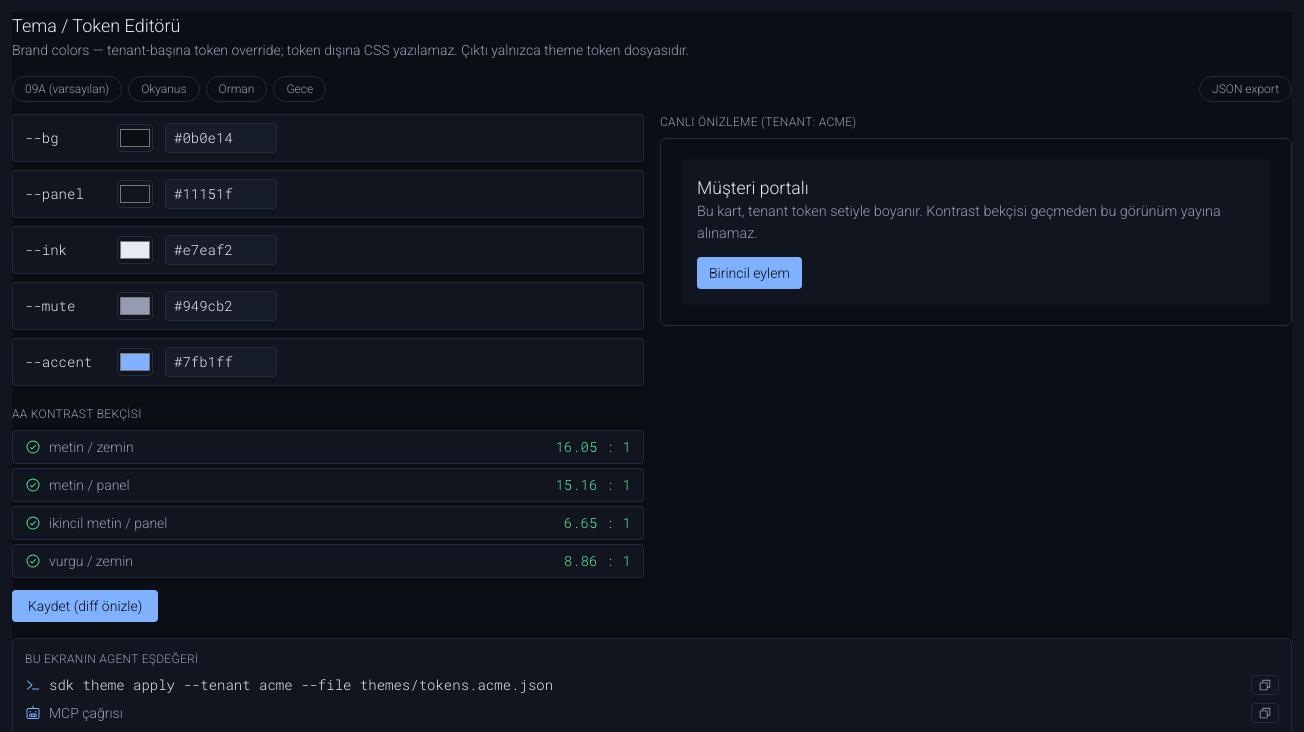
Tema — preset paletler ve export › preset uygulanınca tokenlar değişir ve AA korunur
This screenshot has width=1304, height=732.
Click the button "Okyanus" at (164, 89), box [128,76,200,102]
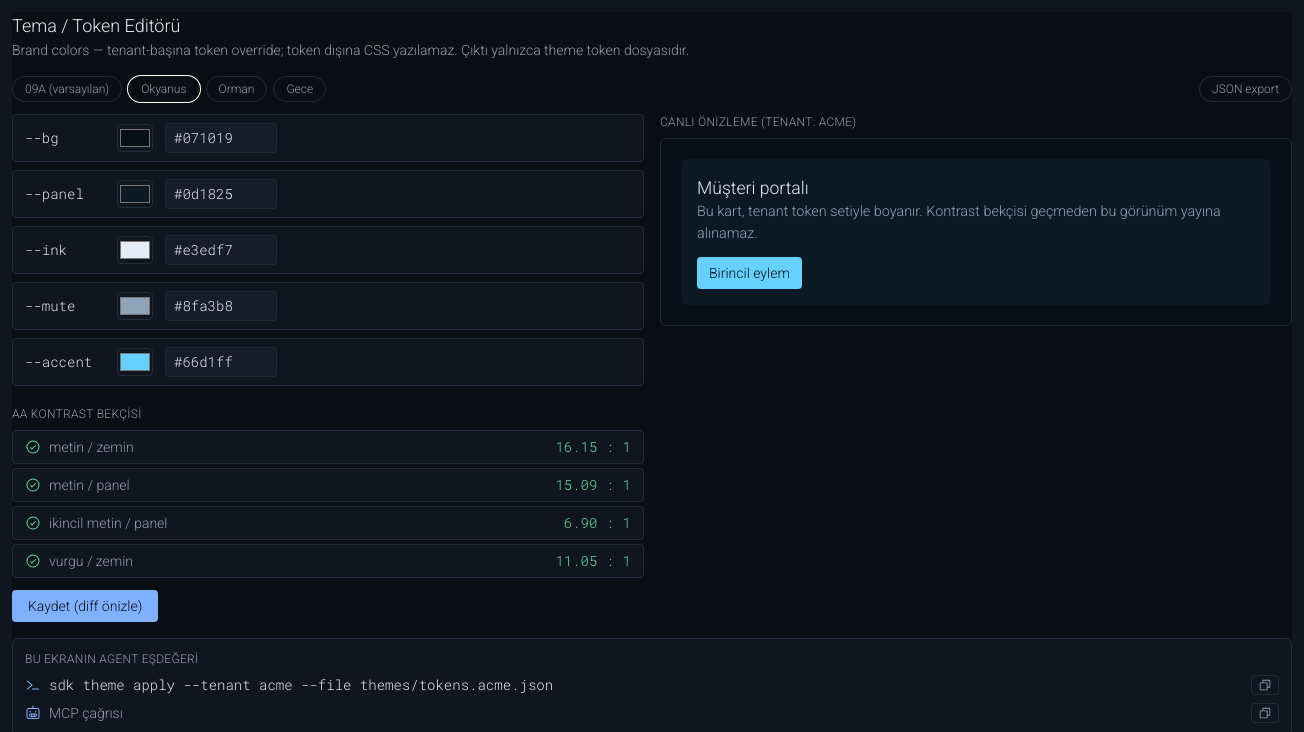
Expected: the button "Kaydet (diff önizle)" is enabled, [12,590,158,622]
Expected: the field named "token-accent" does not hold "#7fb1ff", [165,347,277,377]
